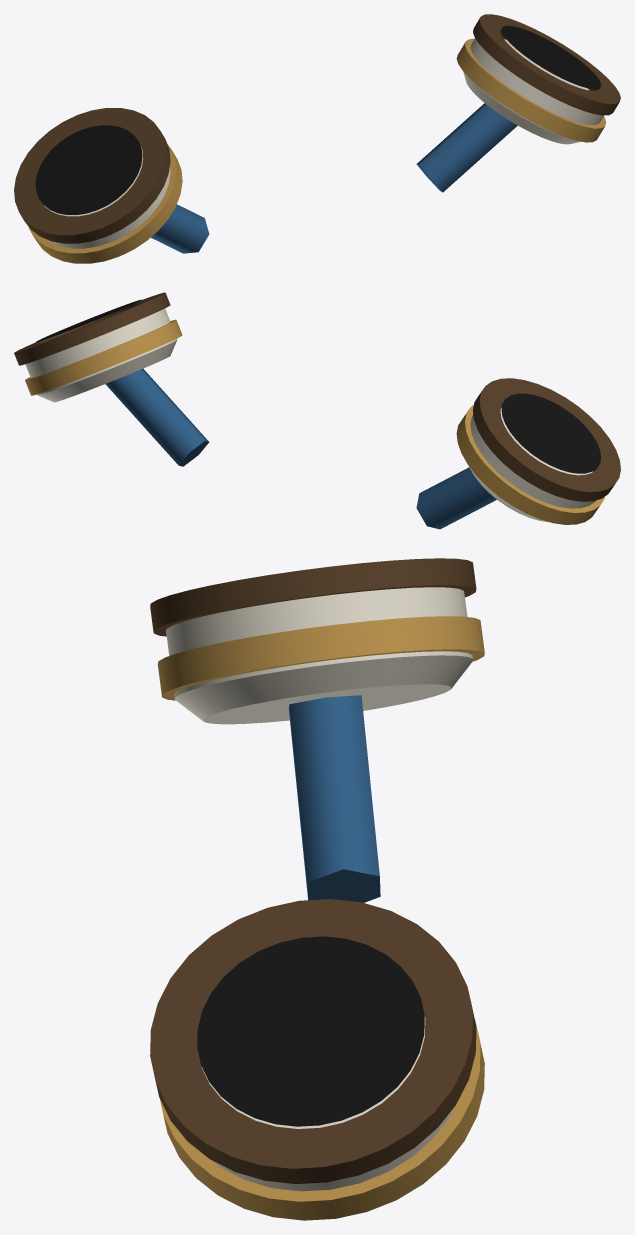
File: rm2_thrusters_aft.obj
3 renders of one model, top to bottom at view 1: azimuth 30°, elevation 25°; view 2: azimuth 150°, elevation 25°; view 3: azimuth 270°, elevation 25°, orthographic. The views are drawn at different scales.
Visible parts, largest first — view 1: rm2_thrusters_aft; view 2: rm2_thrusters_aft; view 3: rm2_thrusters_aft.
Boxes of the visible parts, x1,y1,x2,y2 form: rm2_thrusters_aft: [14, 14, 620, 263]; rm2_thrusters_aft: [14, 292, 620, 529]; rm2_thrusters_aft: [150, 558, 484, 1220].
Size of the model in its own units: 0.643 by 0.1596 by 0.1599.
